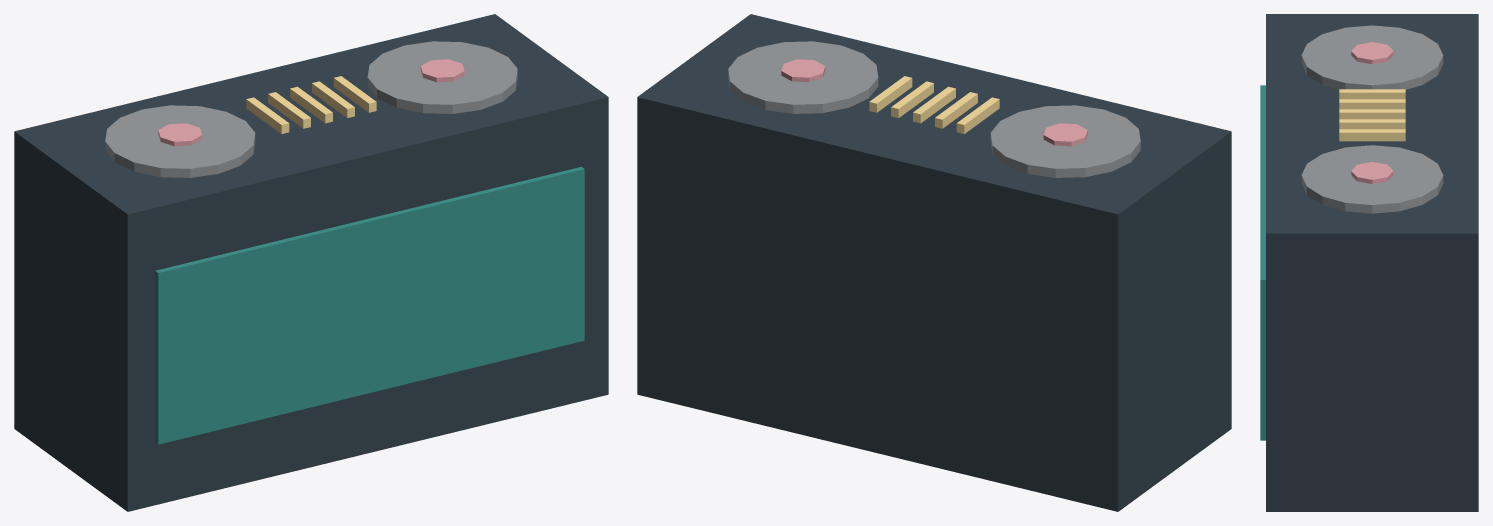
The model's file is dj_booth.glb.
3 renders of one model, left to right at view 1: azimuth 30°, elevation 25°; view 2: azimuth 150°, elevation 25°; view 3: azimuth 270°, elevation 25°, orthographic. The views are drawn at different scales.
Visible parts, largest first — view 1: console, front_panel, turntable, turntable.001, label.001, label, fader.004, fader, fader.001, fader.003, fader.002; view 2: console, turntable, turntable.001, label.001, label, fader.004, fader, fader.001, fader.003, fader.002; view 3: console, turntable.001, turntable, front_panel, fader.004, label, label.001, fader, fader.001, fader.002, fader.003.
Part boxes in pixels (box(x1,y1,x2,y2)): console: box(14, 14, 608, 511); front_panel: box(155, 167, 584, 444); turntable: box(105, 105, 255, 177); turntable.001: box(367, 41, 517, 113); label.001: box(420, 59, 464, 82); label: box(158, 123, 202, 146); fader.004: box(333, 76, 376, 112); fader: box(246, 97, 289, 133); fader.001: box(268, 92, 310, 128); fader.003: box(312, 81, 354, 117); fader.002: box(290, 86, 332, 123); console: box(637, 14, 1231, 511); turntable: box(990, 105, 1140, 177); turntable.001: box(728, 41, 878, 113); label.001: box(781, 59, 825, 82); label: box(1043, 123, 1087, 146); fader.004: box(869, 76, 912, 112); fader: box(956, 97, 999, 133); fader.001: box(935, 92, 977, 128); fader.003: box(891, 81, 933, 117); fader.002: box(913, 86, 955, 123); console: box(1266, 14, 1478, 511); turntable.001: box(1301, 145, 1443, 213); turntable: box(1301, 25, 1443, 89); front_panel: box(1260, 85, 1265, 440); fader.004: box(1339, 129, 1405, 141); label: box(1351, 42, 1393, 64); label.001: box(1351, 162, 1393, 183); fader: box(1339, 89, 1405, 99); fader.001: box(1339, 99, 1405, 109); fader.002: box(1339, 109, 1405, 119); fader.003: box(1339, 119, 1405, 129).
Size of the model in its own units: 2.2 by 1.36 by 0.925.
